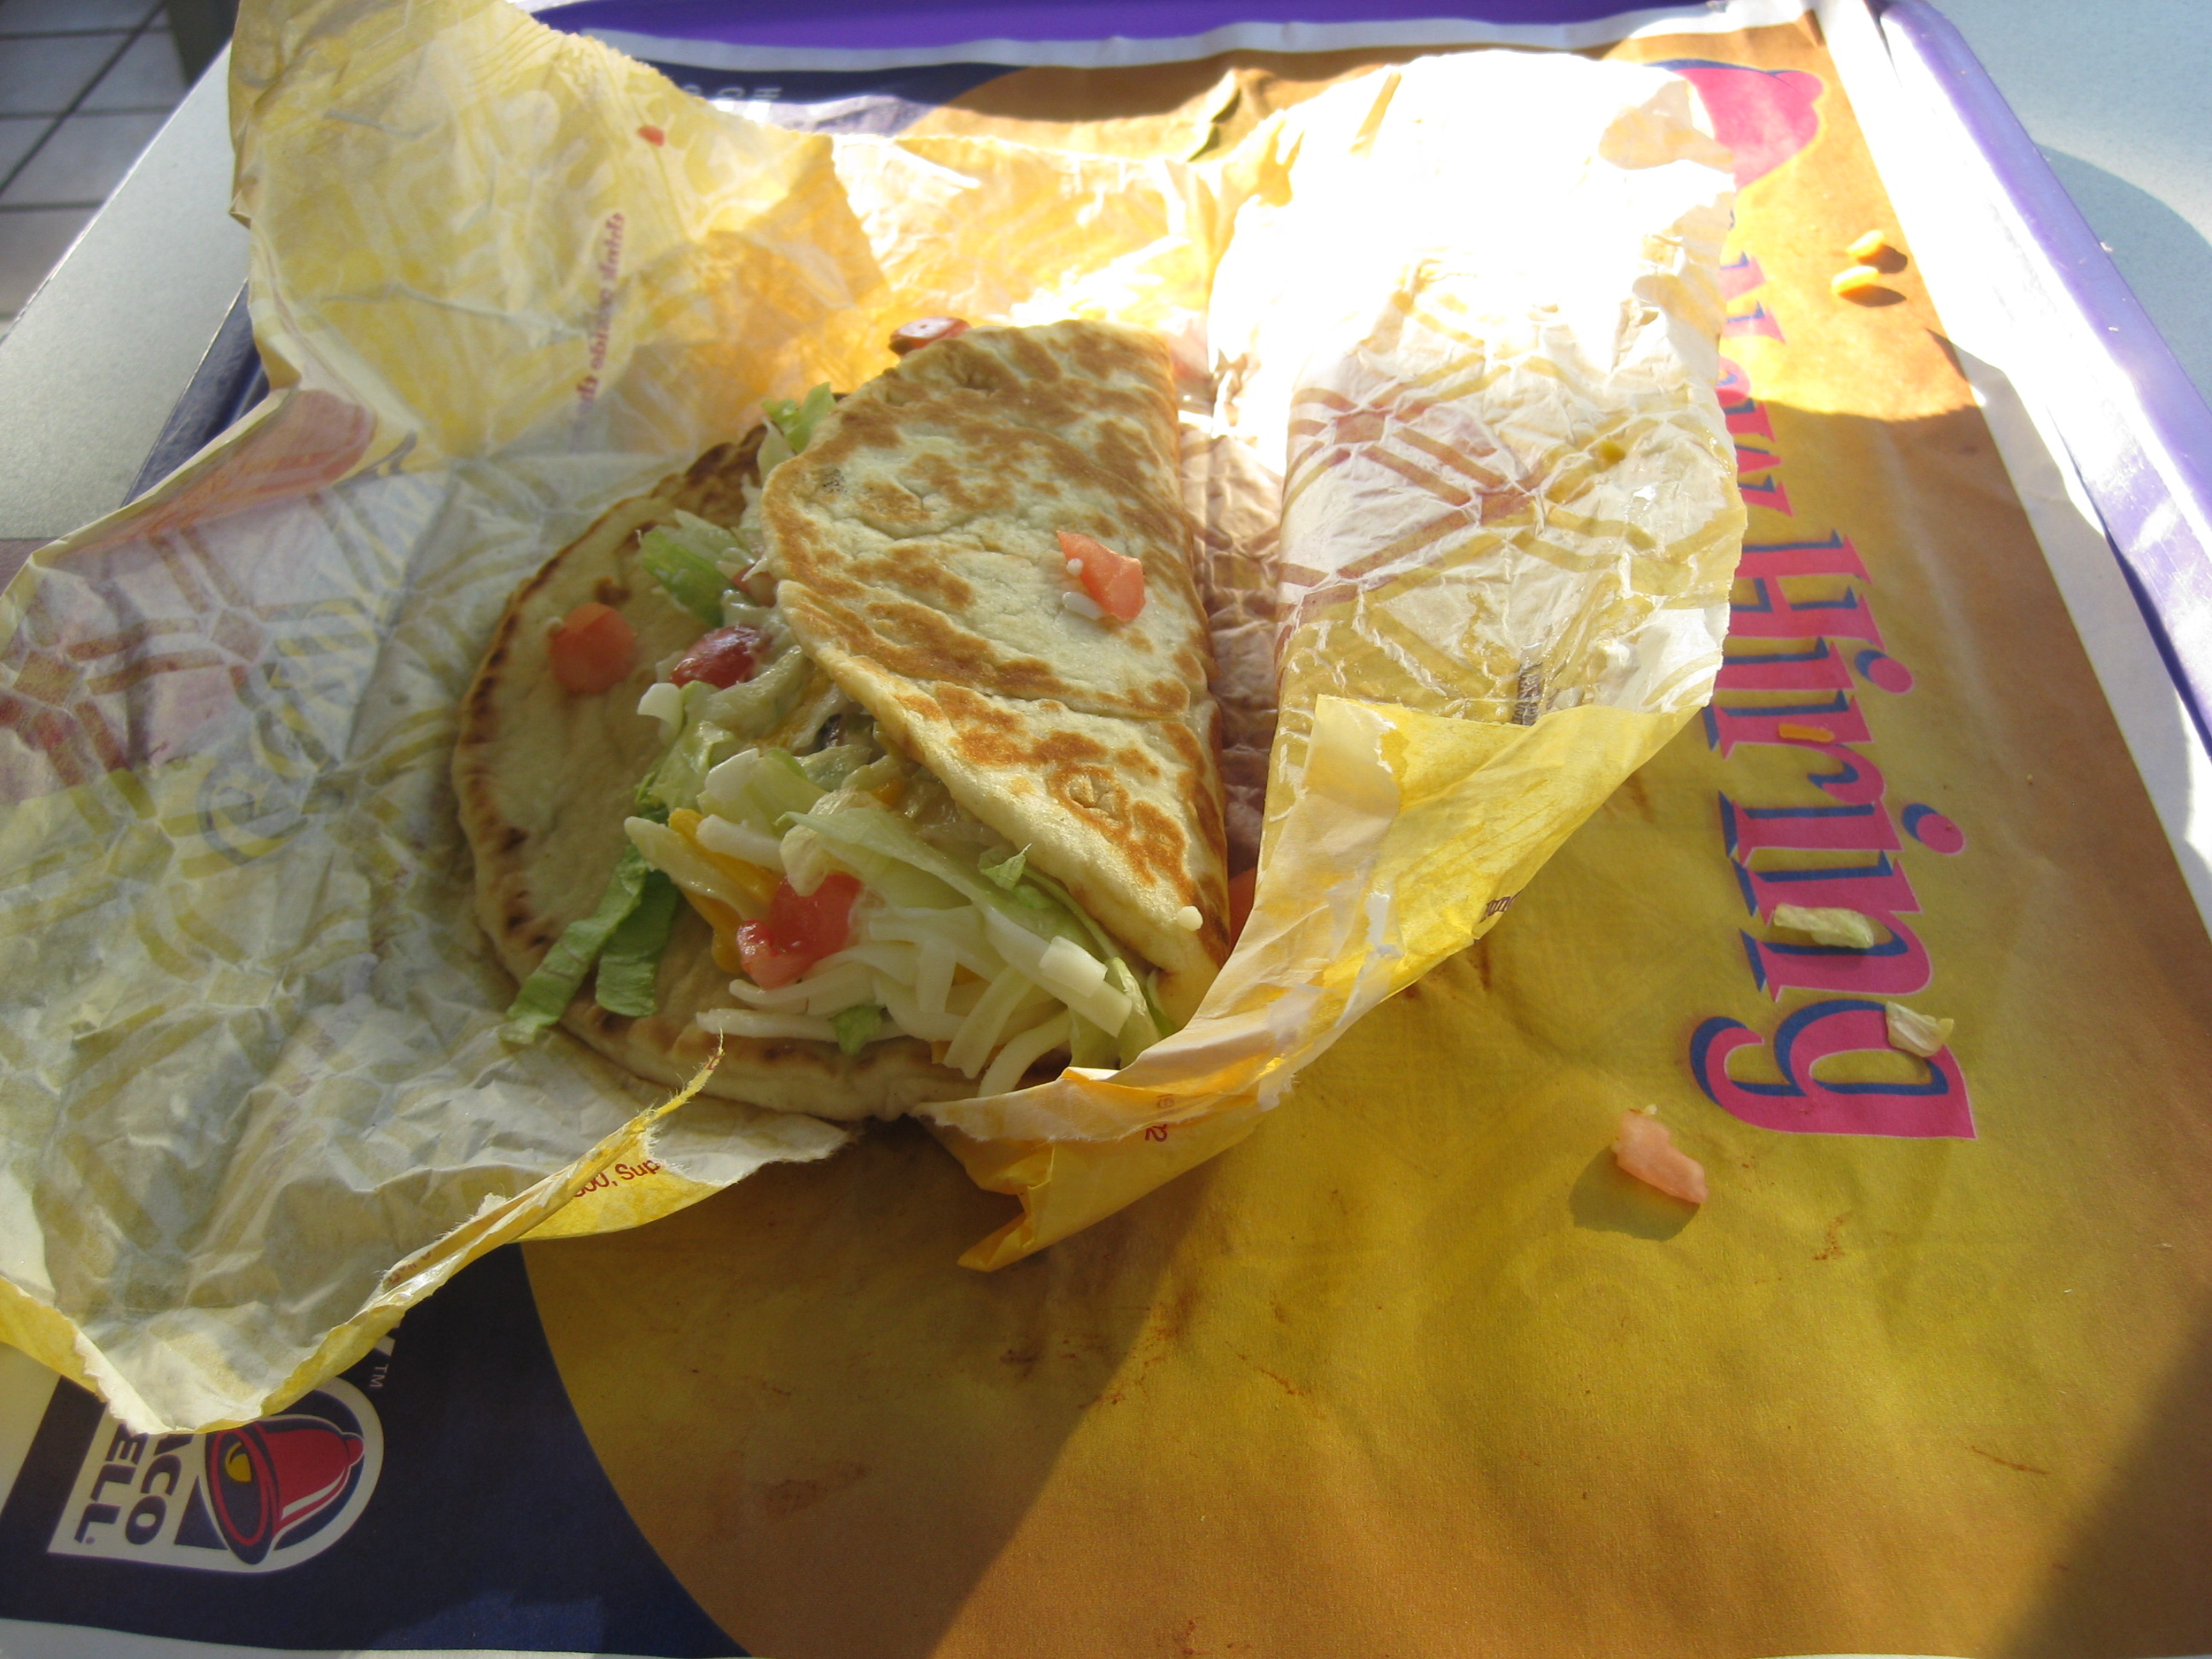taco: (461, 310, 1243, 1121)
